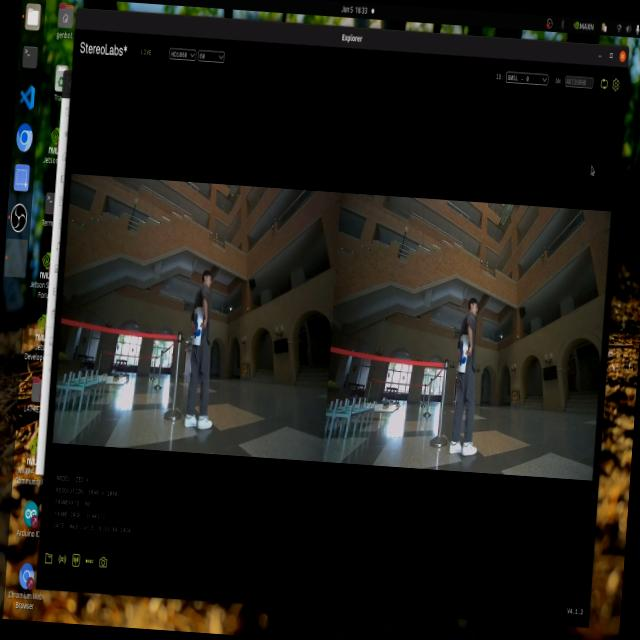blue: (188, 309, 208, 353), (458, 341, 466, 376)
